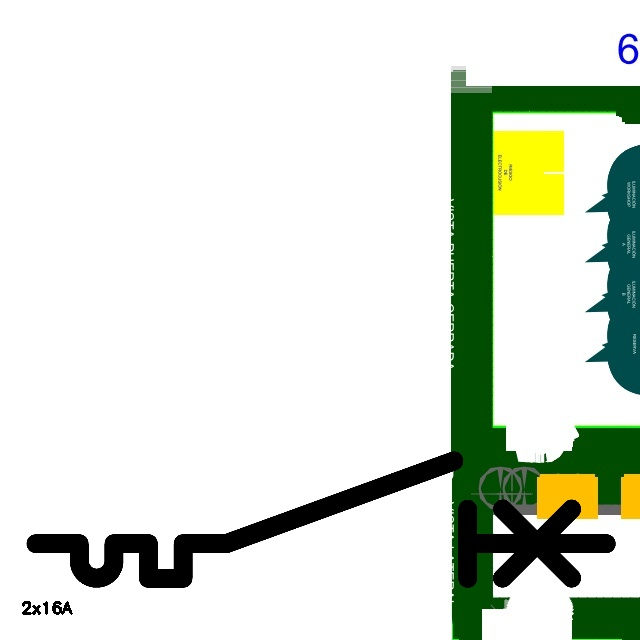interruptor_termomagnetico: (21, 446, 620, 593)
